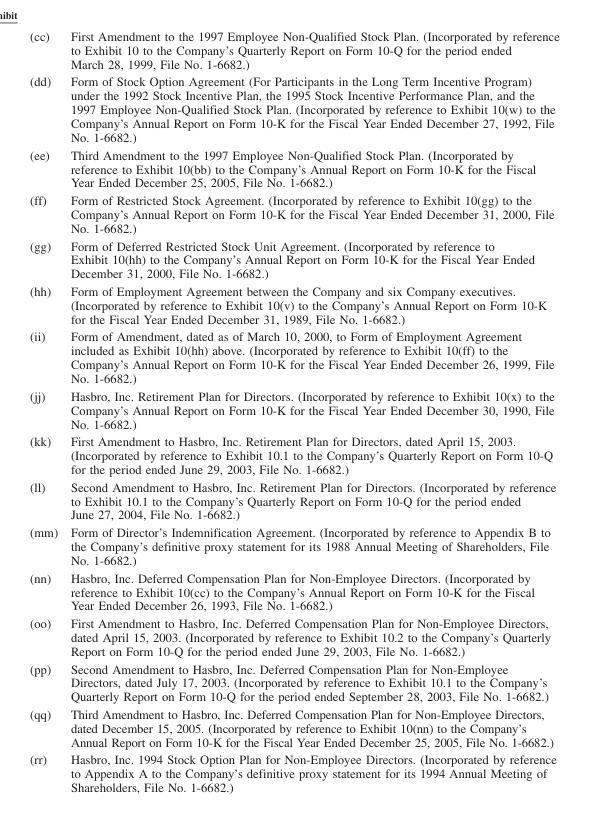table: (29, 28, 558, 793)
table column: (63, 28, 558, 793), (29, 28, 63, 793)
table row: (29, 72, 558, 145), (29, 327, 558, 386), (29, 190, 558, 236), (29, 281, 558, 327), (29, 386, 558, 432), (29, 477, 558, 523), (29, 613, 558, 659), (29, 704, 558, 750), (29, 145, 558, 190), (29, 236, 558, 281), (29, 432, 558, 477), (29, 523, 558, 568), (29, 568, 558, 613), (29, 659, 558, 704), (29, 28, 558, 72), (29, 750, 558, 793)
